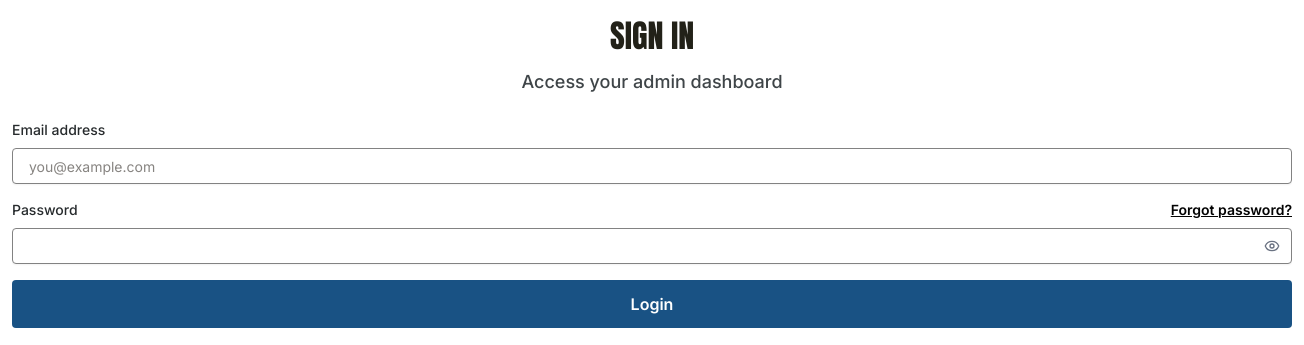
Test: LoginFormState › shows loading state while submitting
Type "admin@example.com" into the field labelled "Email address" at (652, 166), box [12,148,1292,184]
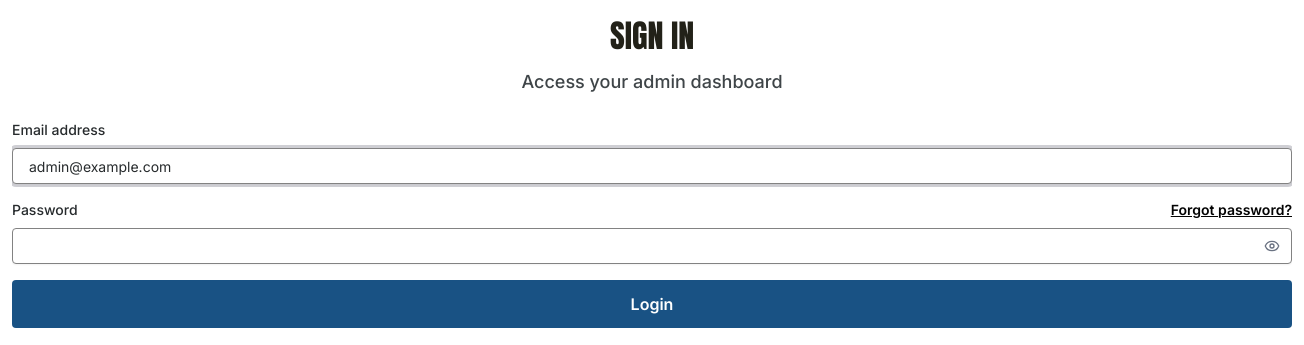
Type "password123" into the password field labelled "Password" at (652, 246), box [12,228,1292,264]
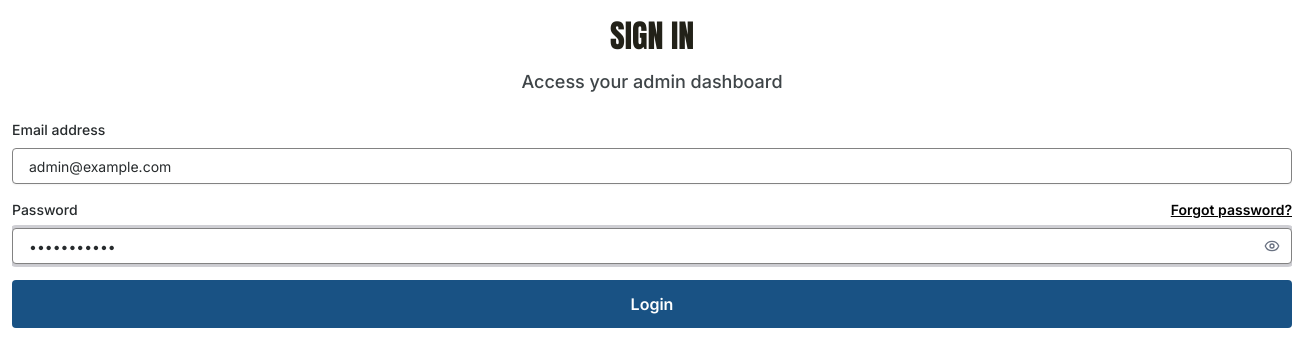
Click the button "Login" at (652, 304), box [12,280,1292,328]
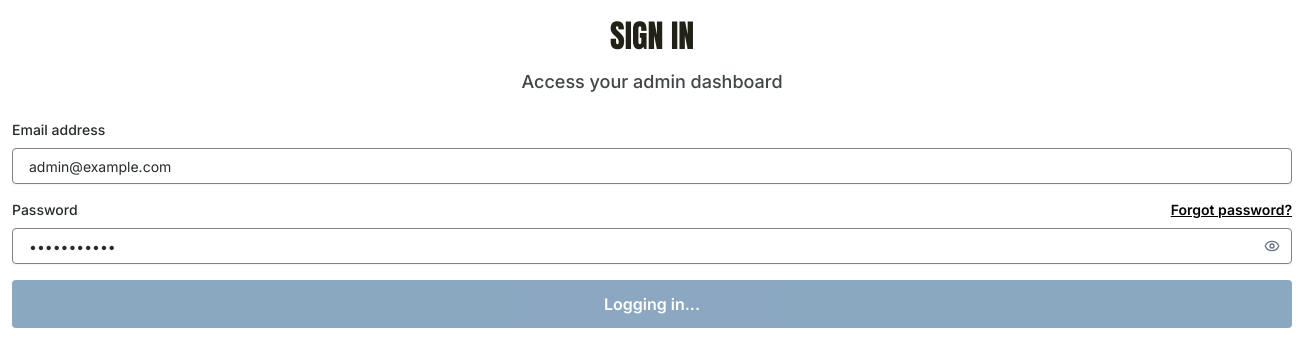
Result: the button "Logging in..." is disabled at [12,280,1292,328]
